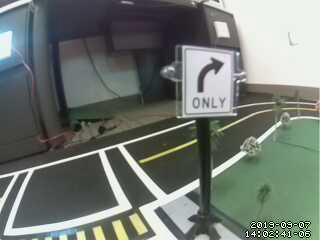Right_only_sign: (182, 45, 242, 119)
